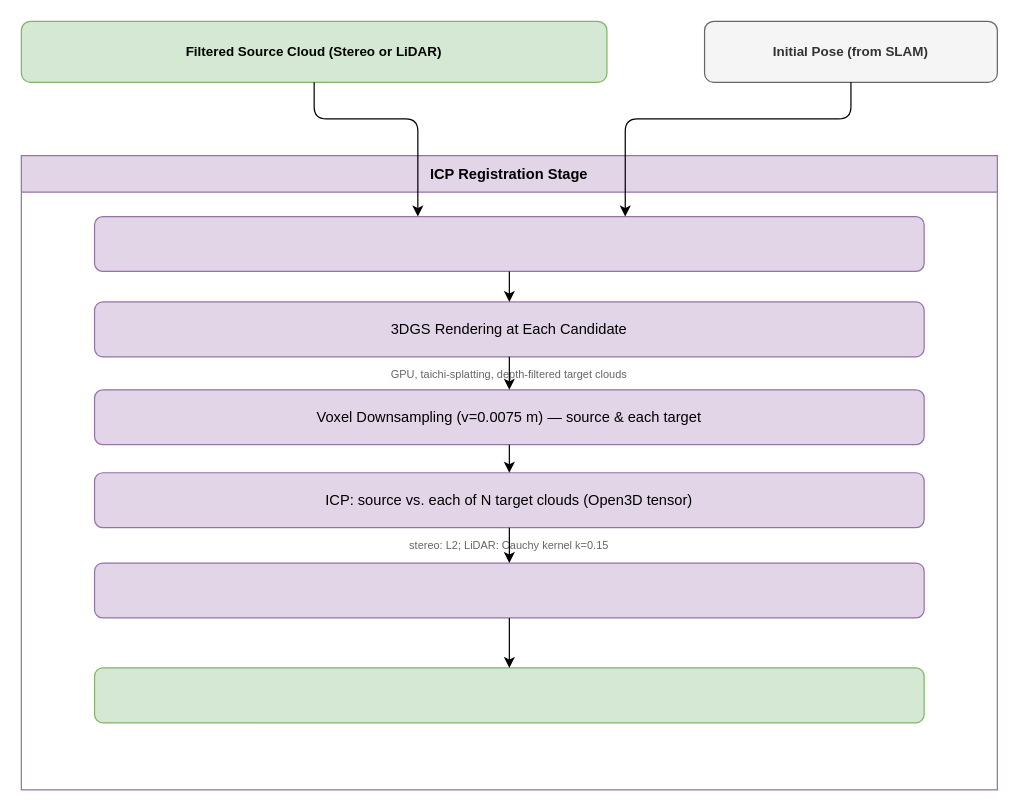
Image size: 1019x811. Some labels were removed from this diagram. Here are the shapes that lost their labels. From the top down, the centre of each, then its label:
point (508, 243): Candidate Viewpoint Sampling (N=5)
point (508, 590): Select Best: highest fitness + lowest RMSE
point (508, 695): Pose Correction + TF Broadcast
